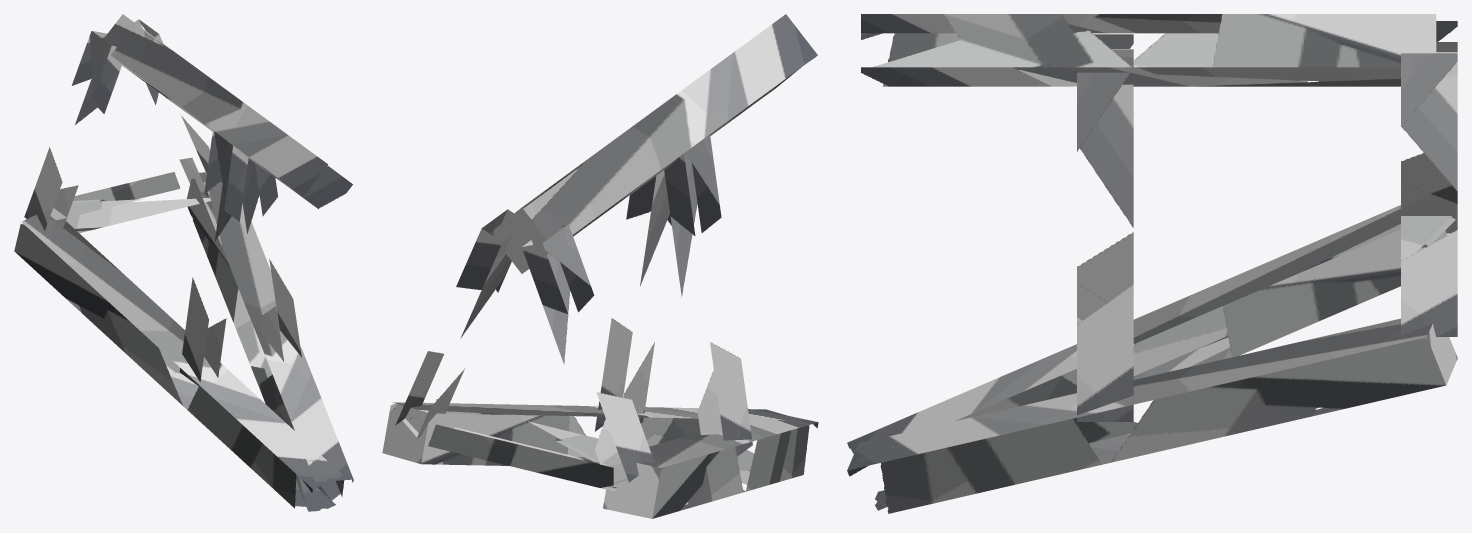
The model's file is overhead_triangle_truss_steel_ad.obj.
3 views of the same model, side by side, from view 1: azimuth 30°, elevation 25°; view 2: azimuth 150°, elevation 25°; view 3: azimuth 270°, elevation 25° (orthographic). The views are drawn at different scales.
Visible parts, largest first — view 1: straight_pole; view 2: straight_pole; view 3: straight_pole.
Boxes of the visible parts, x1,y1,x2,y2 form: straight_pole: (14,14,353,511); straight_pole: (382,14,818,518); straight_pole: (847,14,1457,513).
Size of the model in its own units: 0.7466 by 1.19 by 1.34.
